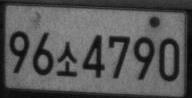0: (157, 37, 180, 82)
4: (81, 34, 105, 78)
6: (31, 32, 54, 76)
7: (107, 35, 130, 78)
9: (132, 35, 155, 81), (8, 30, 30, 73)
소: (56, 40, 77, 77)
